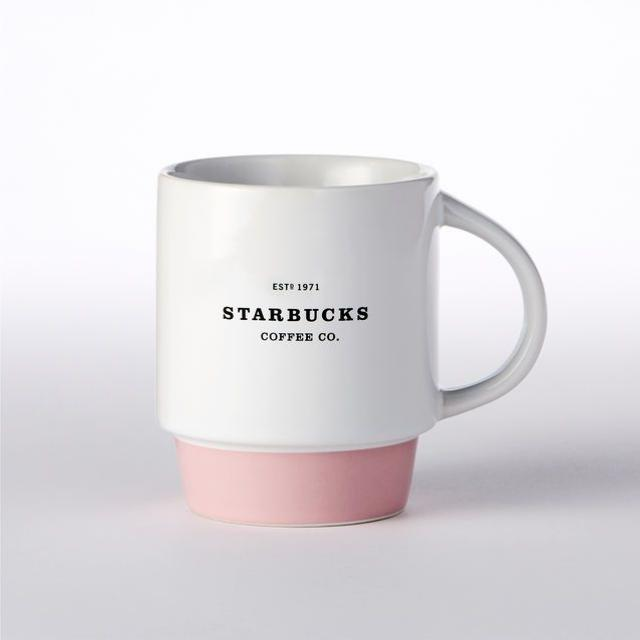glass cup: (156, 153, 547, 528)
